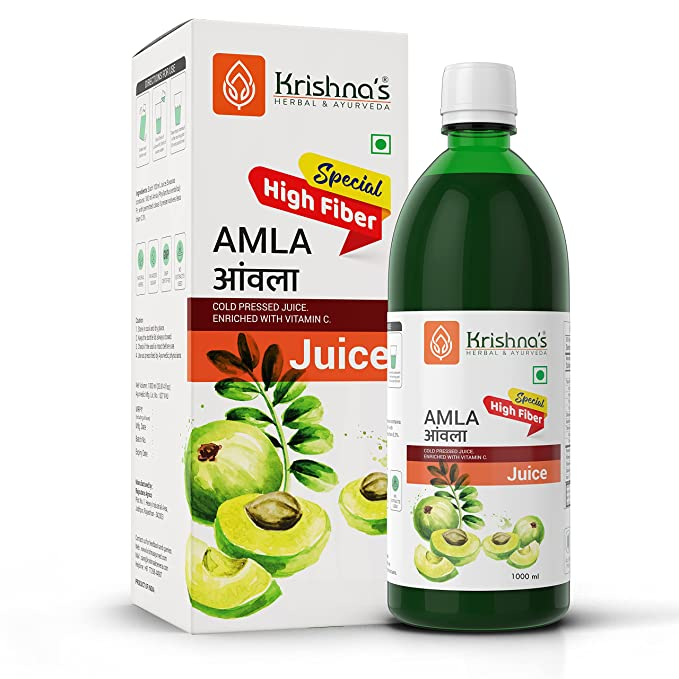veg: (523, 361, 556, 400), (372, 133, 395, 167)
